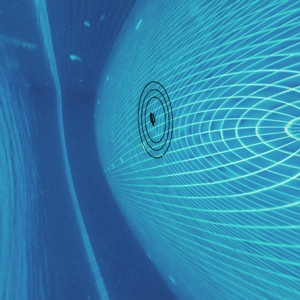circle: (118, 75, 188, 172)
submarine: (148, 115, 155, 124)
